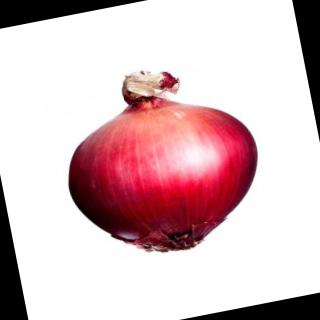Bawang Merah: (47, 47, 278, 274)
